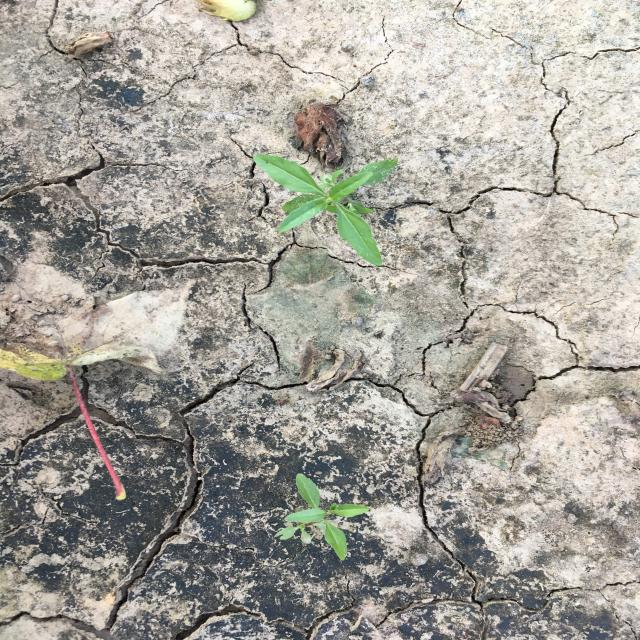Eclipta: (251, 152, 400, 268), (273, 472, 372, 562)
